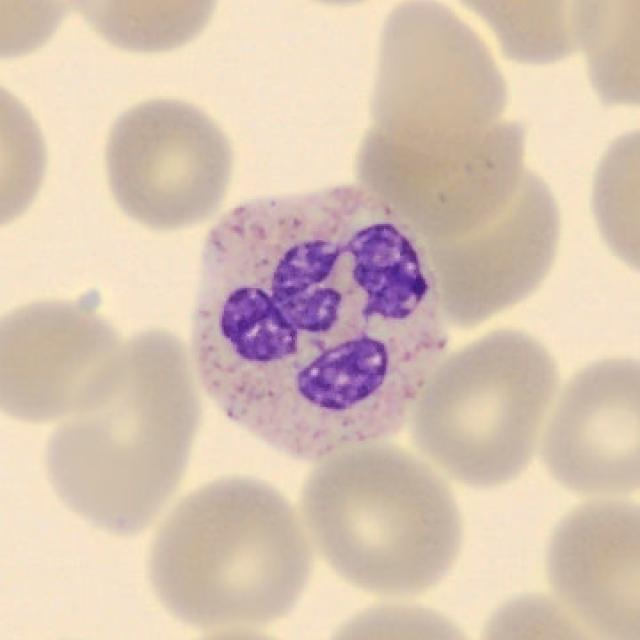Neutrofilo segmentado: (188, 185, 450, 464)
